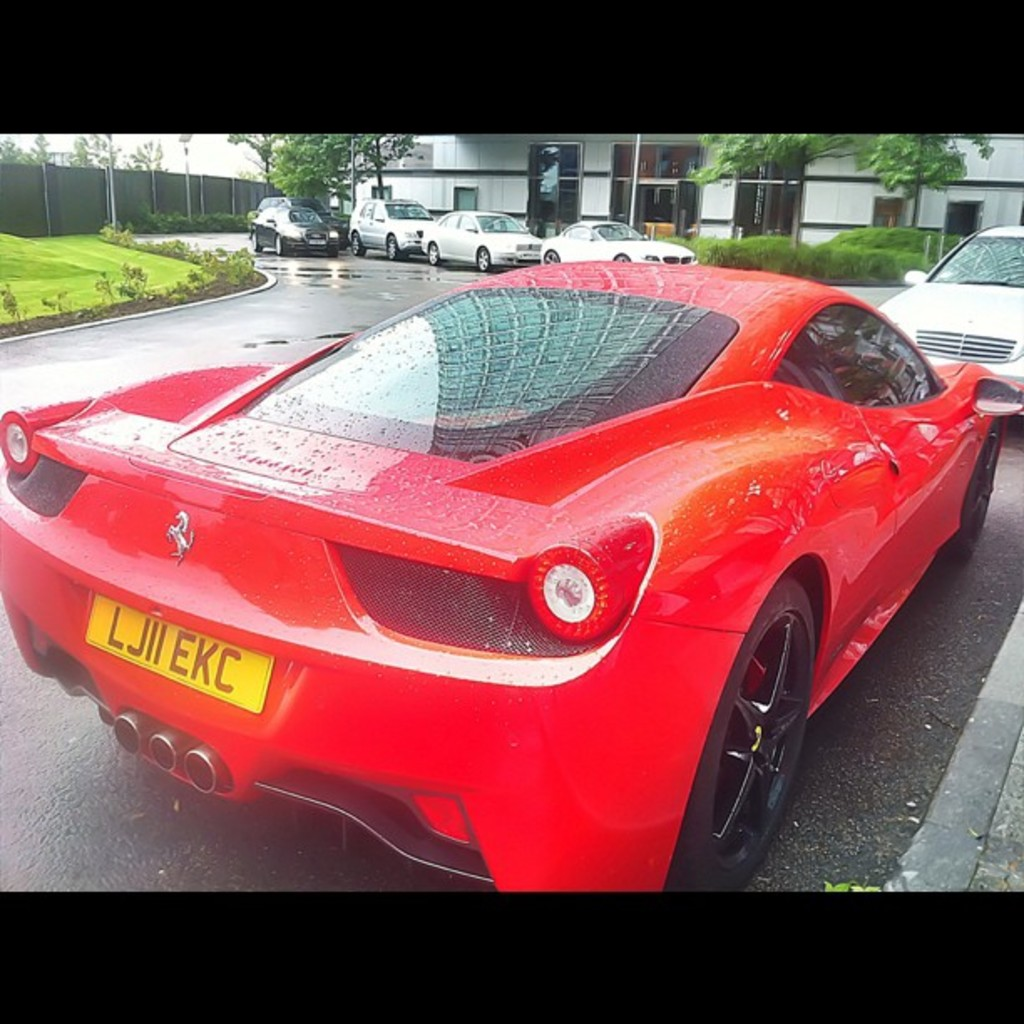Tree: (688, 132, 858, 235), (228, 130, 422, 202), (861, 131, 995, 225)
